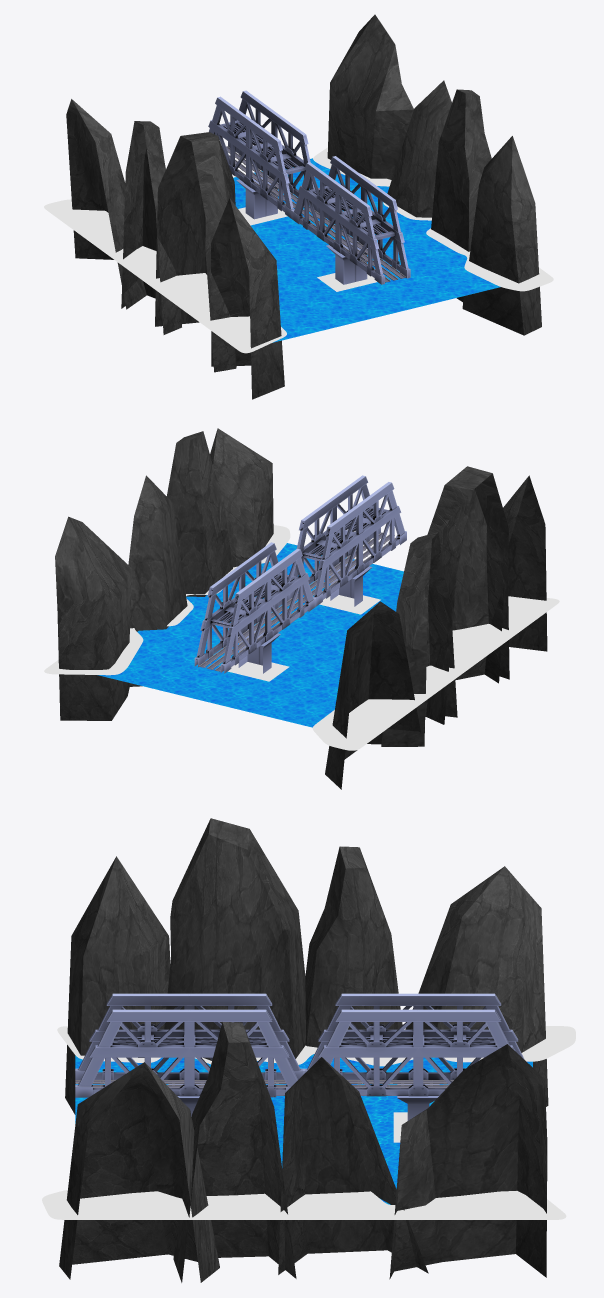
File: Egypt_09.fbx
3 renders of one model, top to bottom at view 1: azimuth 30°, elevation 25°; view 2: azimuth 150°, elevation 25°; view 3: azimuth 270°, elevation 25°, orthographic. The views are drawn at different scales.
Visible parts, largest first — view 1: Egypt_09; view 2: Egypt_09; view 3: Egypt_09.
Boxes of the visible parts, x1,y1,x2,y2 form: Egypt_09: (44, 14, 553, 399); Egypt_09: (44, 428, 559, 789); Egypt_09: (42, 818, 575, 1282).
Size of the model in its own units: 22617 by 13384 by 25170.
Materials: 6 (6 with a texture image).
